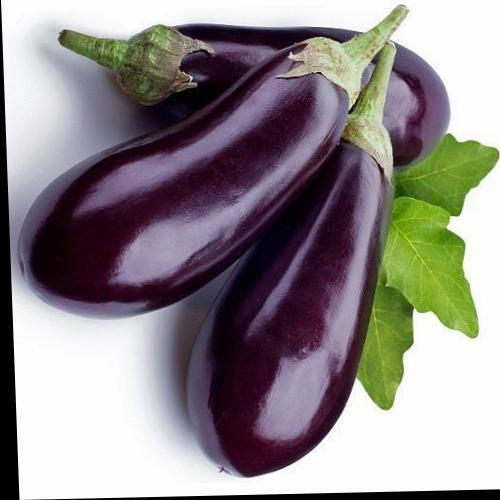eggplant: (48, 6, 454, 431)
